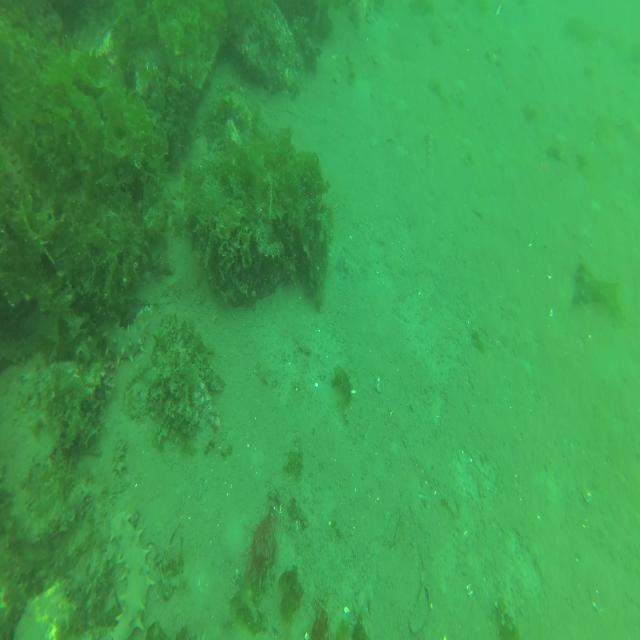holothurian: (108, 511, 156, 640), (97, 320, 149, 366)
